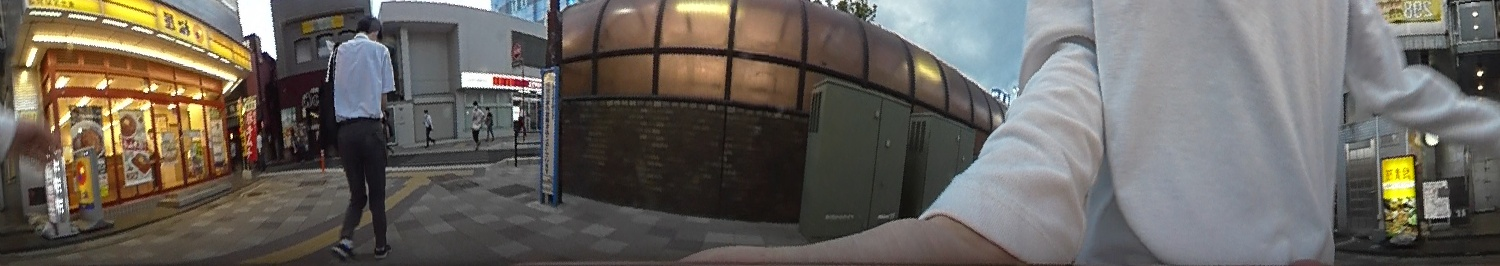difficult_person: (465, 96, 485, 155), (417, 105, 439, 149), (480, 100, 499, 141)
person: (316, 4, 400, 262)
